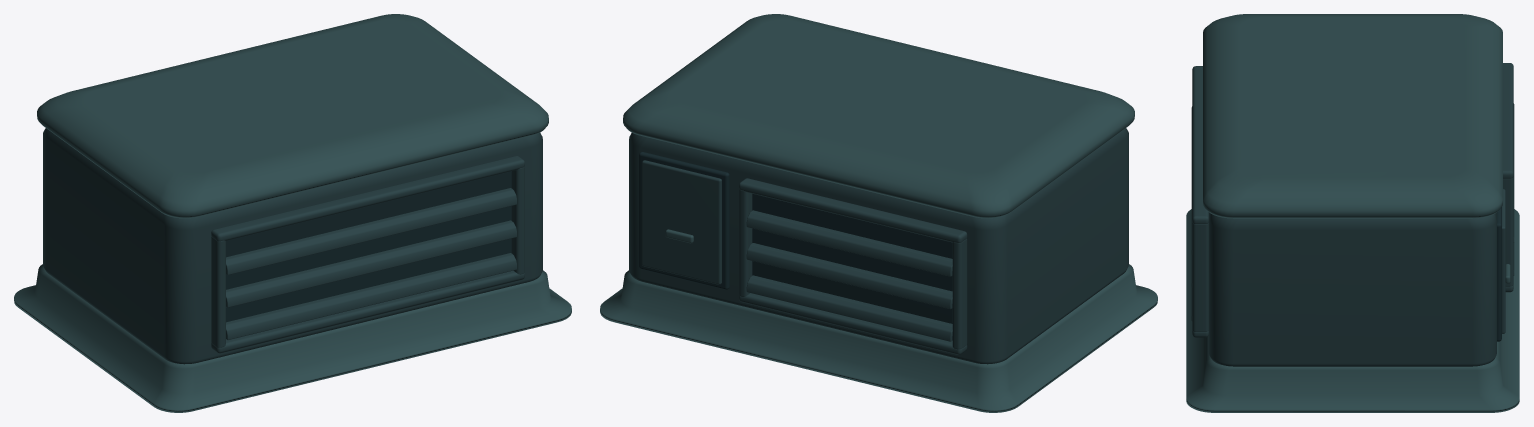
File: city_roof_details_02.glb
The picture shows the model from 3 angles, left to right: view 1: azimuth 30°, elevation 25°; view 2: azimuth 150°, elevation 25°; view 3: azimuth 270°, elevation 25°; orthographic projection.
Visible parts, largest first — view 1: swept_rain_cover, formed_enclosure_body, flashing_and_curb, six_formed_louvers, intake_shadow_panels, intake_frames; view 2: swept_rain_cover, formed_enclosure_body, flashing_and_curb, six_formed_louvers, intake_shadow_panels, intake_frames, service_panel, service_panel_gasket; view 3: swept_rain_cover, formed_enclosure_body, flashing_and_curb, intake_frames, six_formed_louvers, service_panel_gasket, service_panel.
Boxes of the visible parts, x1,y1,x2,y2 form: swept_rain_cover: [37, 14, 548, 218]; formed_enclosure_body: [43, 128, 542, 364]; flashing_and_curb: [14, 264, 571, 412]; six_formed_louvers: [226, 188, 516, 339]; intake_shadow_panels: [226, 171, 511, 322]; intake_frames: [211, 156, 524, 353]; swept_rain_cover: [623, 14, 1134, 218]; formed_enclosure_body: [629, 128, 1128, 364]; flashing_and_curb: [600, 264, 1157, 412]; six_formed_louvers: [746, 210, 952, 341]; intake_shadow_panels: [752, 194, 952, 339]; intake_frames: [739, 178, 967, 354]; service_panel: [642, 160, 721, 284]; service_panel_gasket: [639, 152, 729, 289]; swept_rain_cover: [1203, 14, 1502, 218]; formed_enclosure_body: [1209, 212, 1496, 366]; flashing_and_curb: [1186, 209, 1519, 412]; intake_frames: [1192, 63, 1513, 337]; six_formed_louvers: [1191, 103, 1514, 320]; service_panel_gasket: [1497, 207, 1501, 341]; service_panel: [1502, 189, 1505, 333].
Size of the model in its own units: 3.2 by 1.55 by 2.2.
